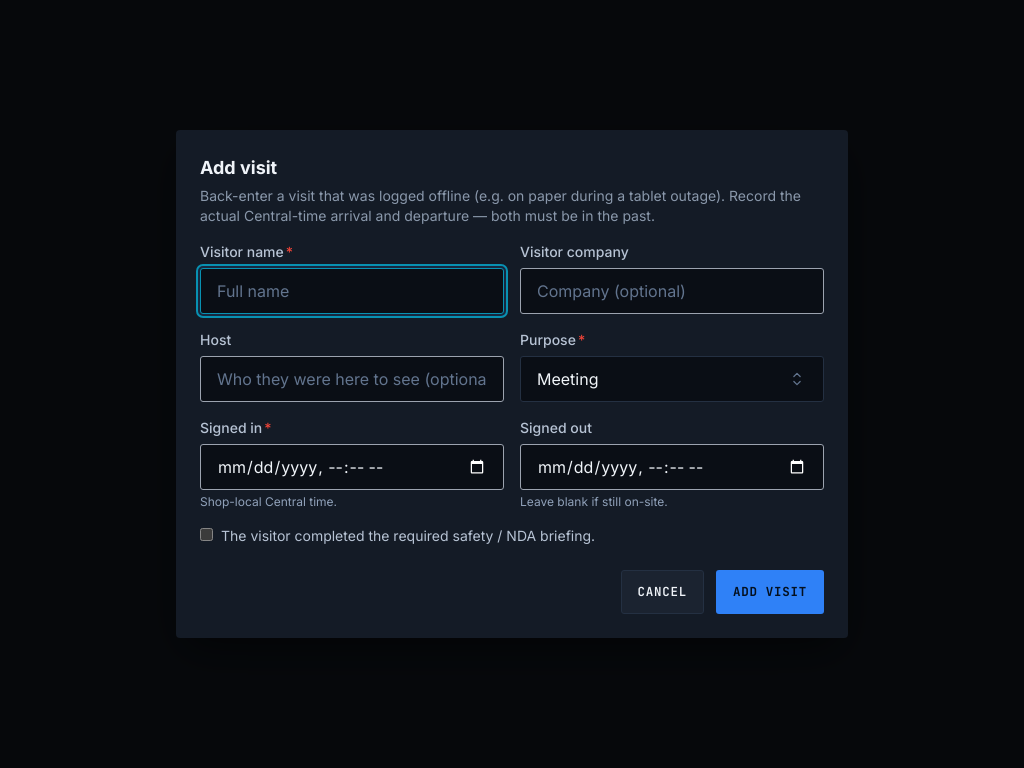
VisitorManualEntryModal validation › shows required errors when submitting an empty form
The image size is (1024, 768).
Click the button "Add visit" at (770, 592), box [716,570,824,614]
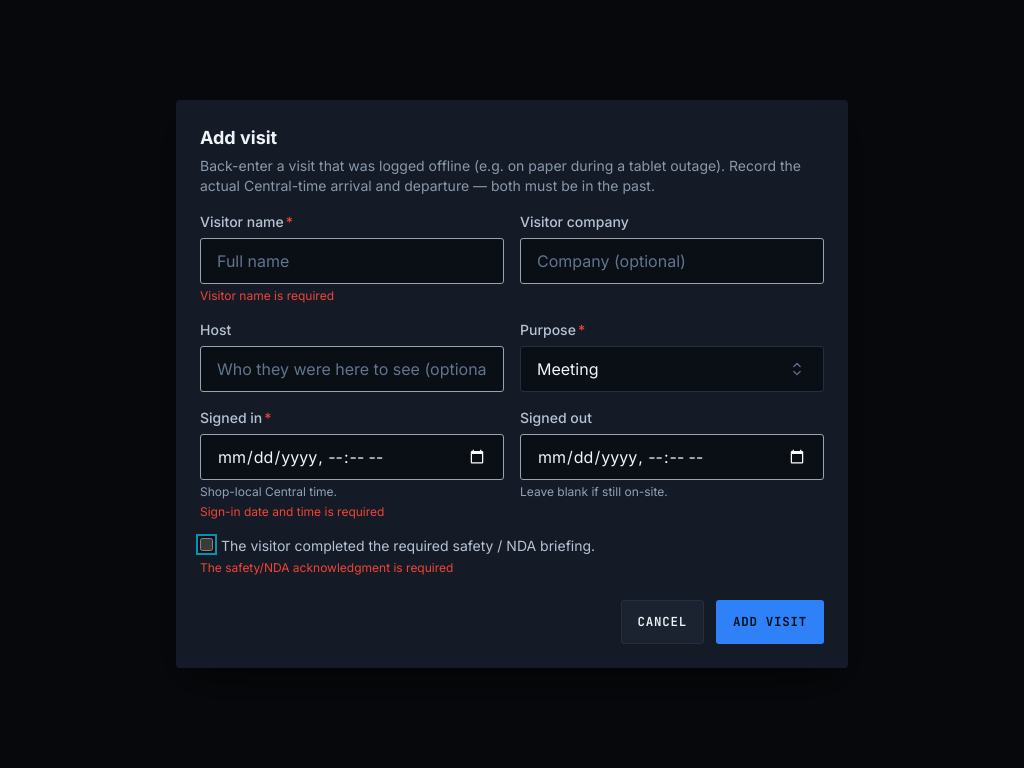
Expected: the text "Visitor name is required" is shown, [200,288,334,303]
Expected: the text "Sign-in date and time is required" is shown, [200,504,384,519]
Expected: the text "The safety/NDA acknowledgment is required" is shown, [200,560,453,575]
